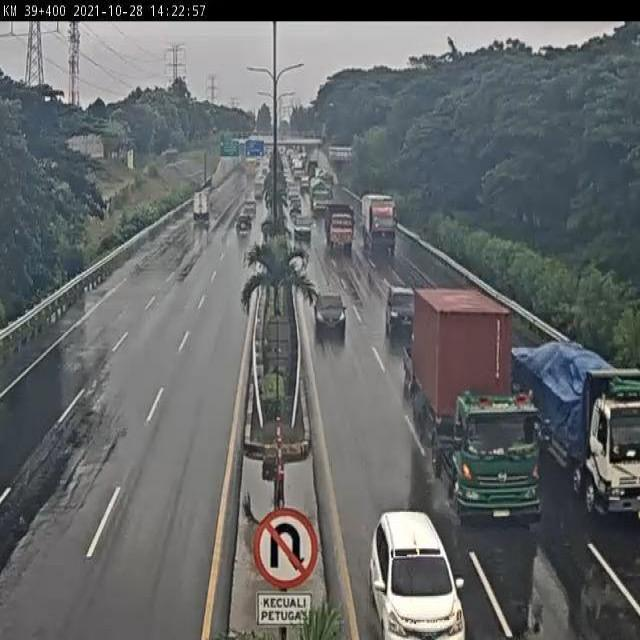truck-l-: (361, 195, 396, 252)
truck-s-: (326, 203, 355, 253)
truck-xl-: (403, 286, 543, 526)
